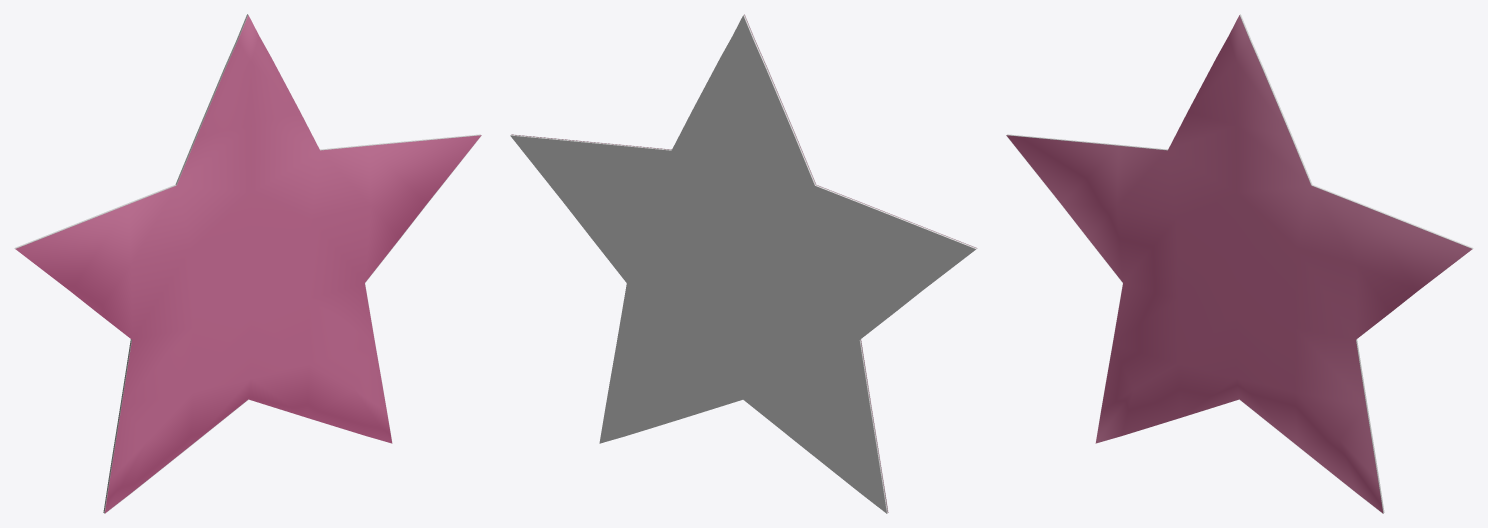
File: hosi_pink.glb
3 renders of one model, left to right at view 1: azimuth 30°, elevation 25°; view 2: azimuth 150°, elevation 25°; view 3: azimuth 330°, elevation 25°, orthographic.
Visible parts, largest first — view 1: Plane.001, Plane.002, Plane; view 2: Plane, Plane.001; view 3: Plane.001, Plane.002, Plane.
Part boxes in pixels (x1,y1,x2,y2): Plane.001: (15, 15, 481, 513); Plane.002: (16, 15, 481, 513); Plane: (14, 14, 480, 513); Plane: (510, 14, 976, 513); Plane.001: (512, 14, 976, 512); Plane.001: (1006, 15, 1472, 513); Plane.002: (1006, 15, 1471, 513); Plane: (1007, 14, 1473, 513).
Size of the model in its own units: 1.95 by 1.85 by 0.0288.
